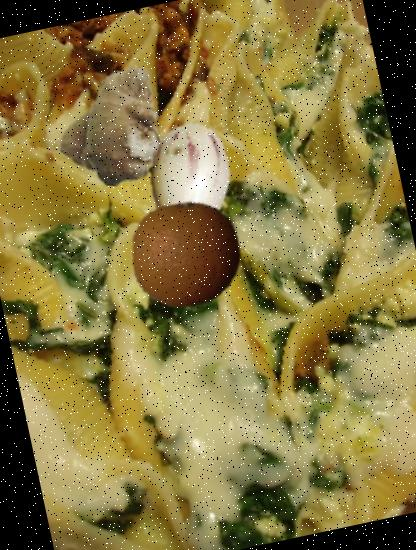Ginger: (39, 51, 185, 197)
Orange: (120, 188, 252, 320)
Pepino: (121, 111, 256, 246)
